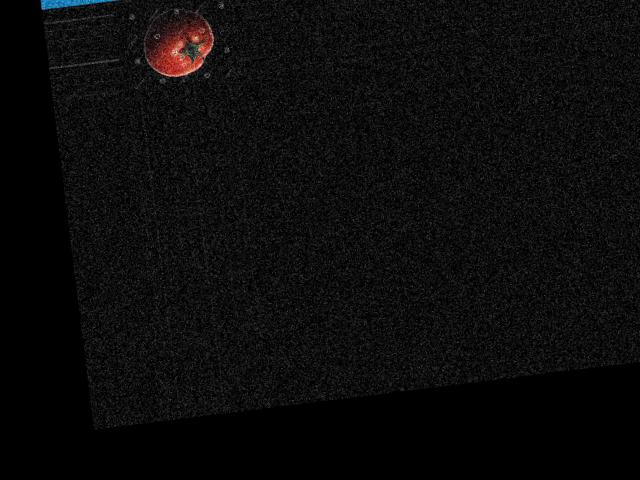tomato: (138, 4, 217, 80)
